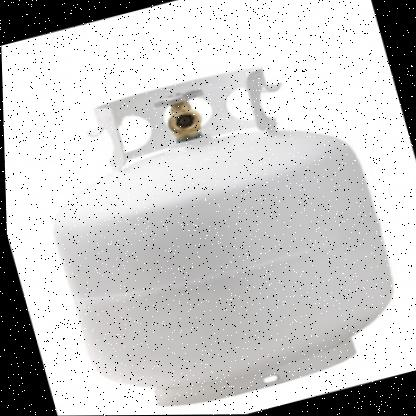gas-tank: (8, 31, 415, 415)
